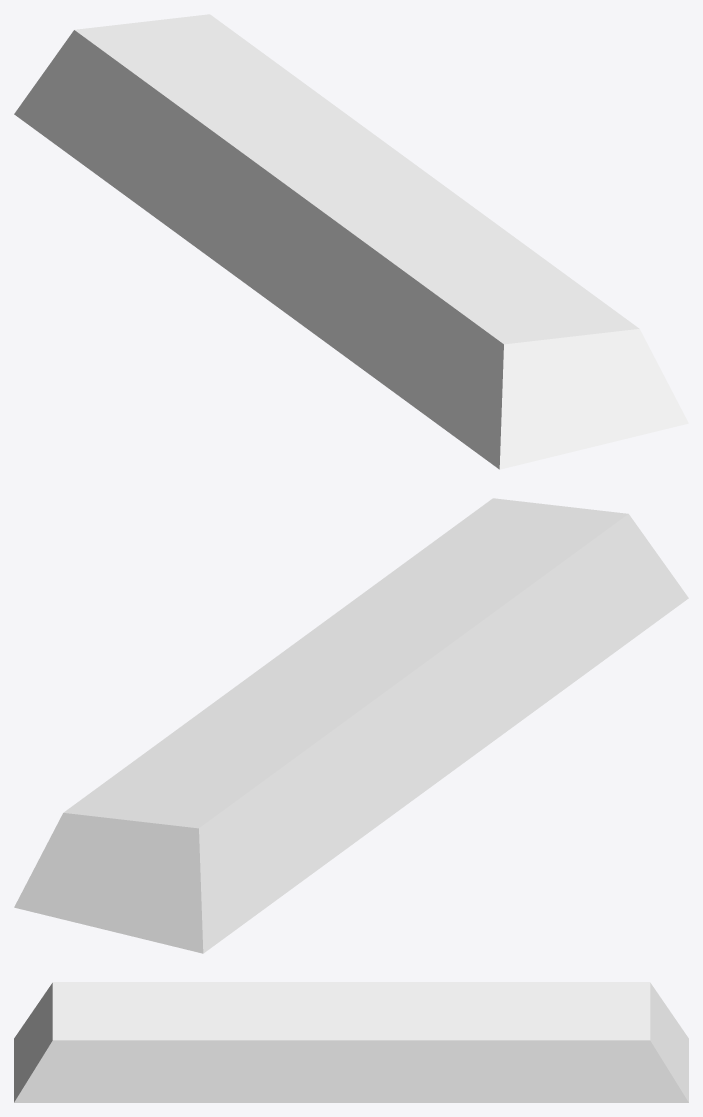
File: AMB_HOME_LIGHT.glb
3 renders of one model, top to bottom at view 1: azimuth 30°, elevation 25°; view 2: azimuth 150°, elevation 25°; view 3: azimuth 270°, elevation 25°, orthographic. The views are drawn at different scales.
Visible parts, largest first — view 1: Mesh1; view 2: Mesh1; view 3: Mesh1.
Part boxes in pixels (x1=…): Mesh1: x1=14, y1=14, x2=688, y2=469; Mesh1: x1=14, y1=498, x2=688, y2=953; Mesh1: x1=14, y1=982, x2=688, y2=1102.
Bounding box in the file's own units: 25.43 × 12.45 × 113.
1 material, 1 textured.
